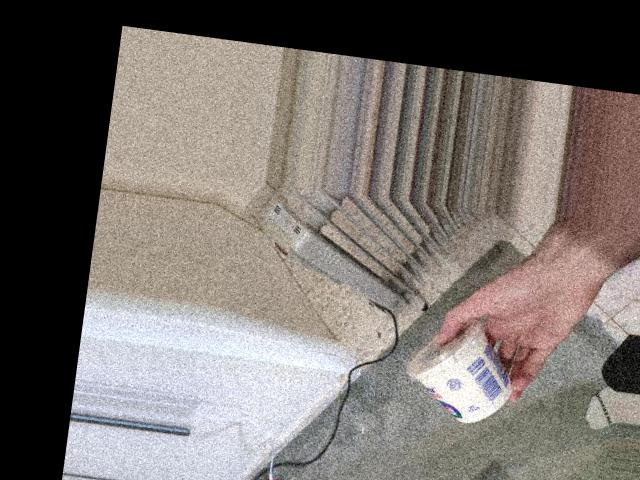cotage: (396, 308, 527, 430)
